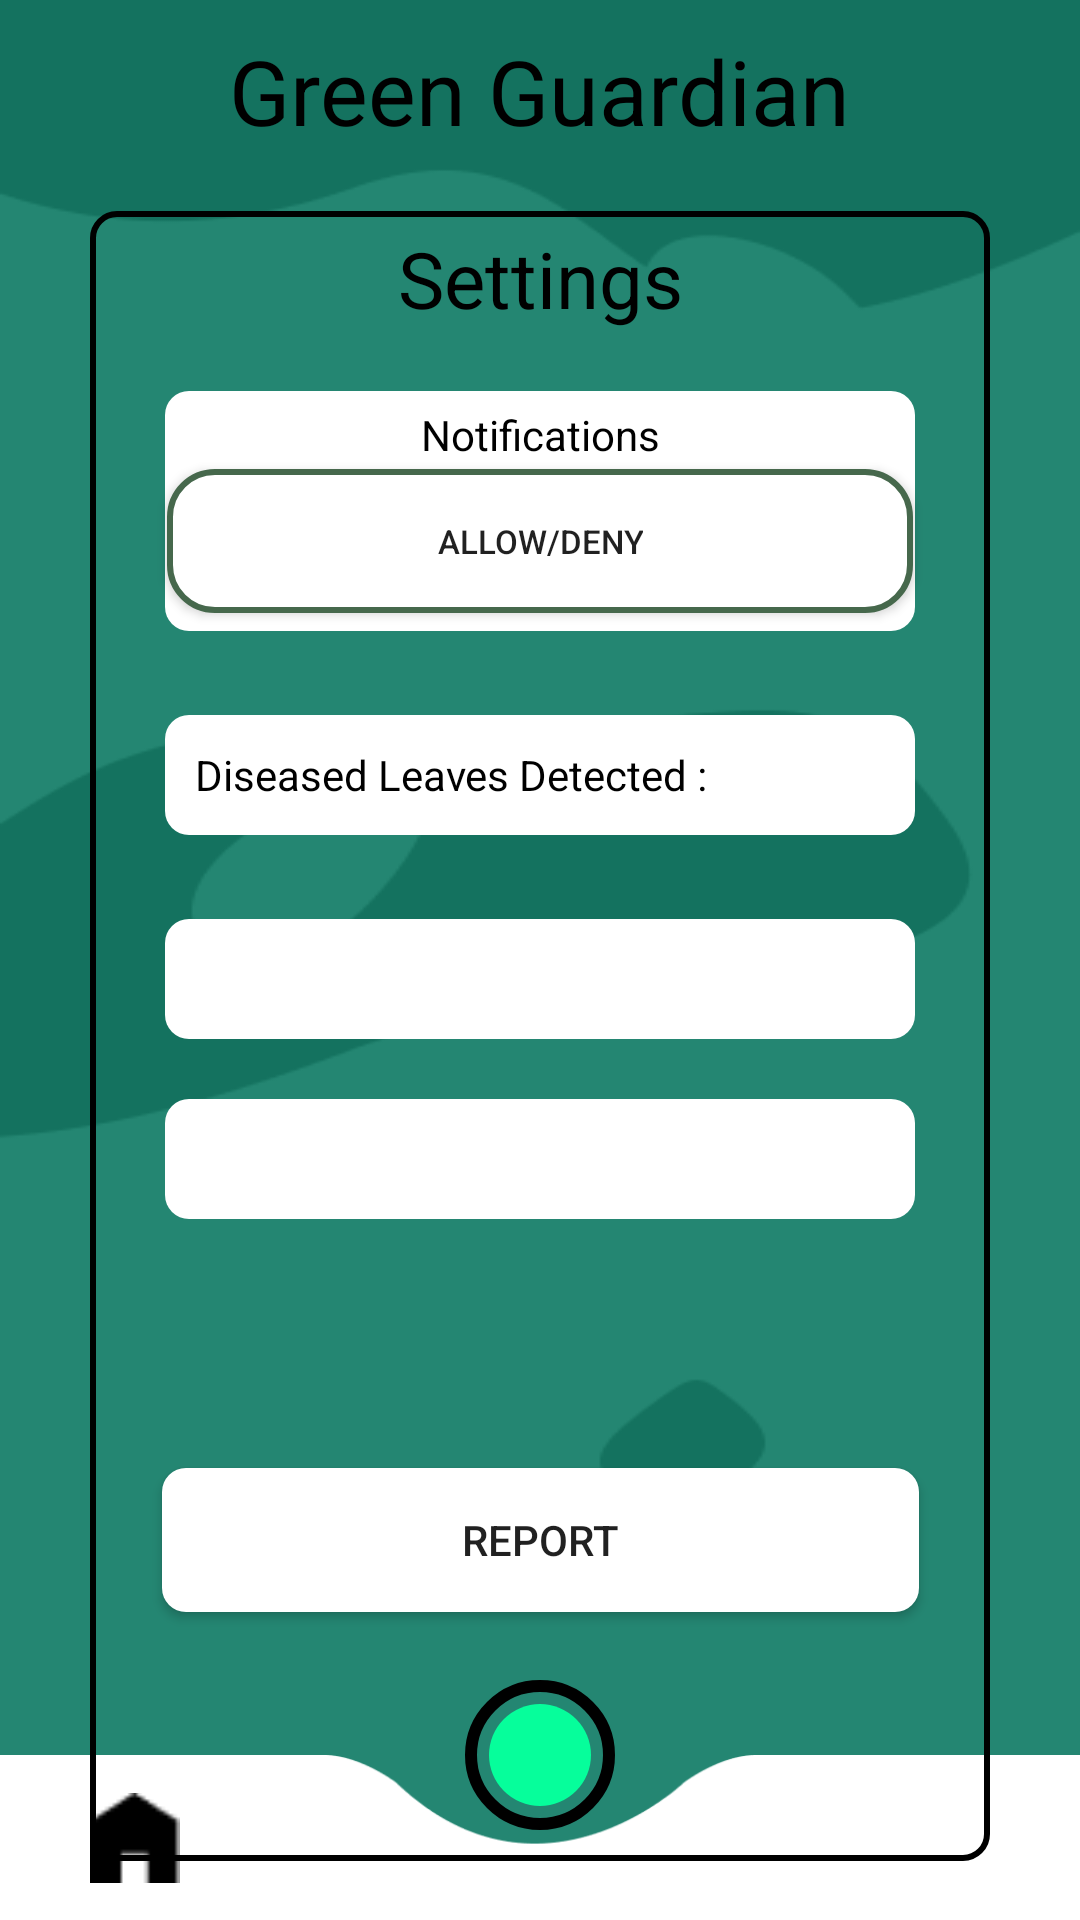

Locate icon controls on the screen. Image size 1080×1920, boxes as (x1=x1, y1=y1, x2=x2, y2=y2).
takephoto: (x1=465, y1=1680, x2=615, y2=1830)
